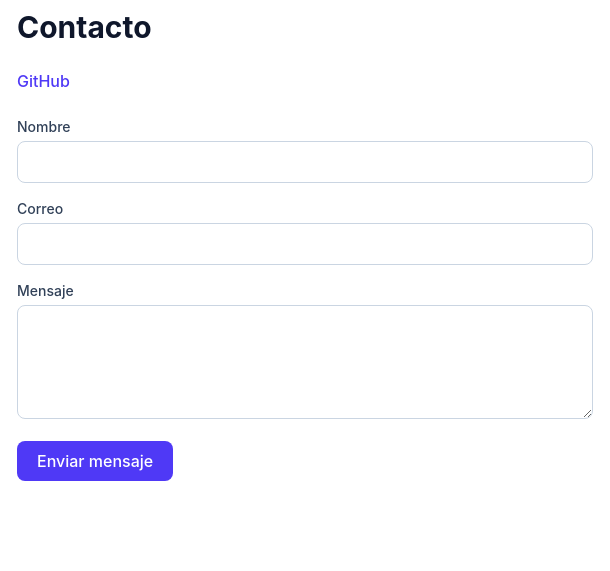
Test: ContactSection › muestra errores de validación si se envía el formulario vacío
Step 1. Click the button "Enviar mensaje" → click(95, 461), box [17, 441, 173, 481]
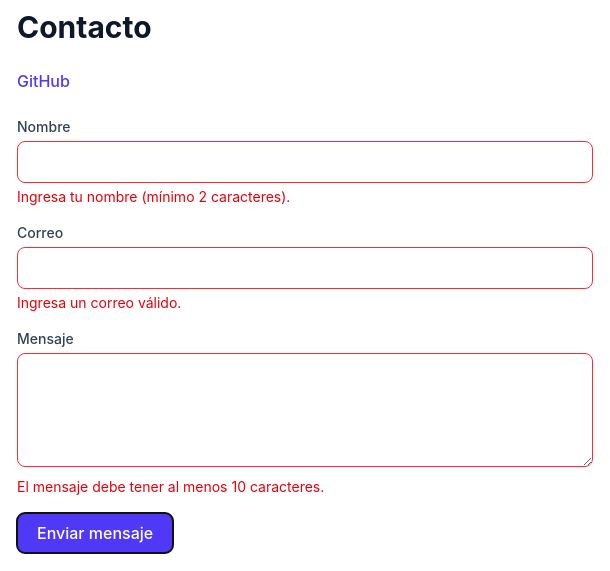
expect the number of messages is 3: met, box [17, 188, 290, 205]; [17, 294, 181, 311]; [17, 478, 324, 495]
